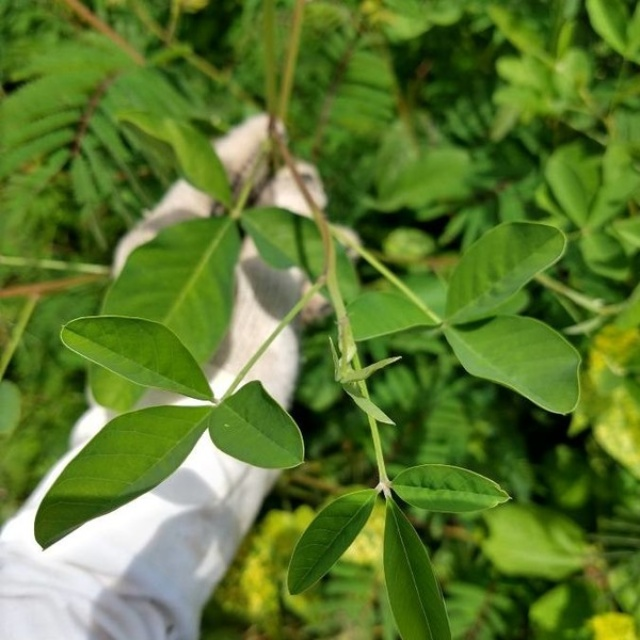obstacle: (74, 79, 565, 606)
